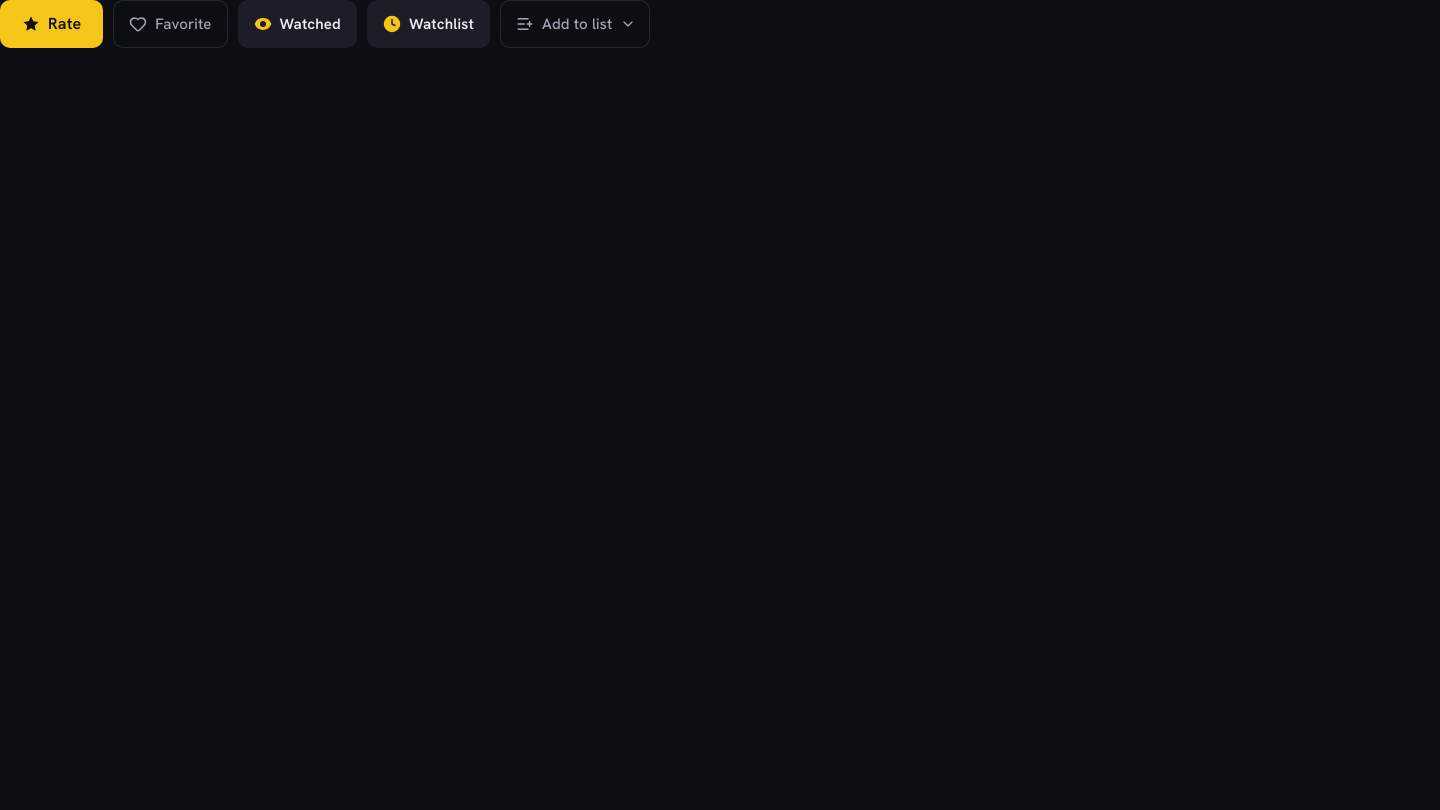
Test: menú «Add to list» › crear una lista valida el nombre y avisa si ya existe
This screenshot has width=1440, height=810.
Click the button with aria-label "Add Interstellar to a list" at (575, 24), box [500,0,650,48]
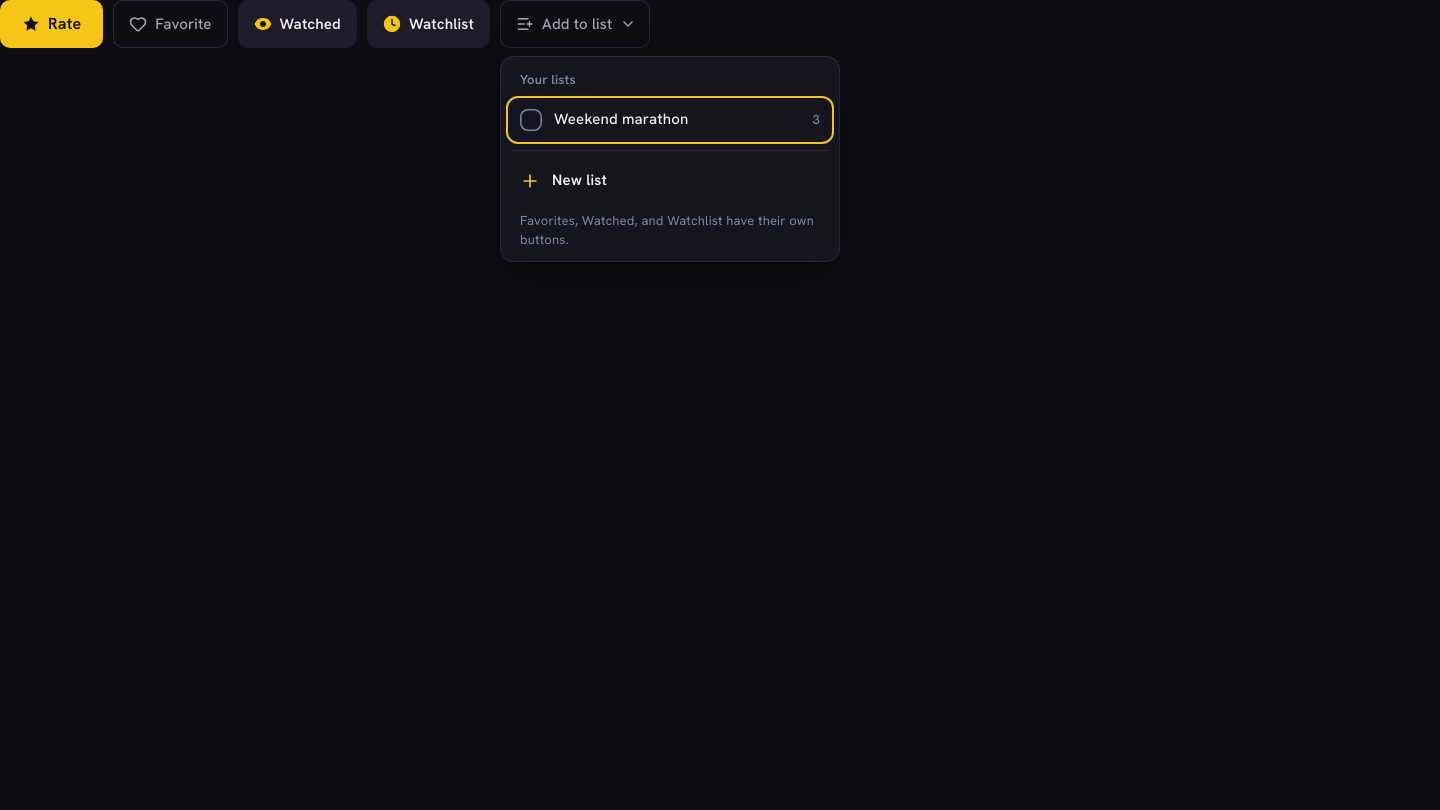
Click the button "New list" at (579, 180), box [508,158,832,202]
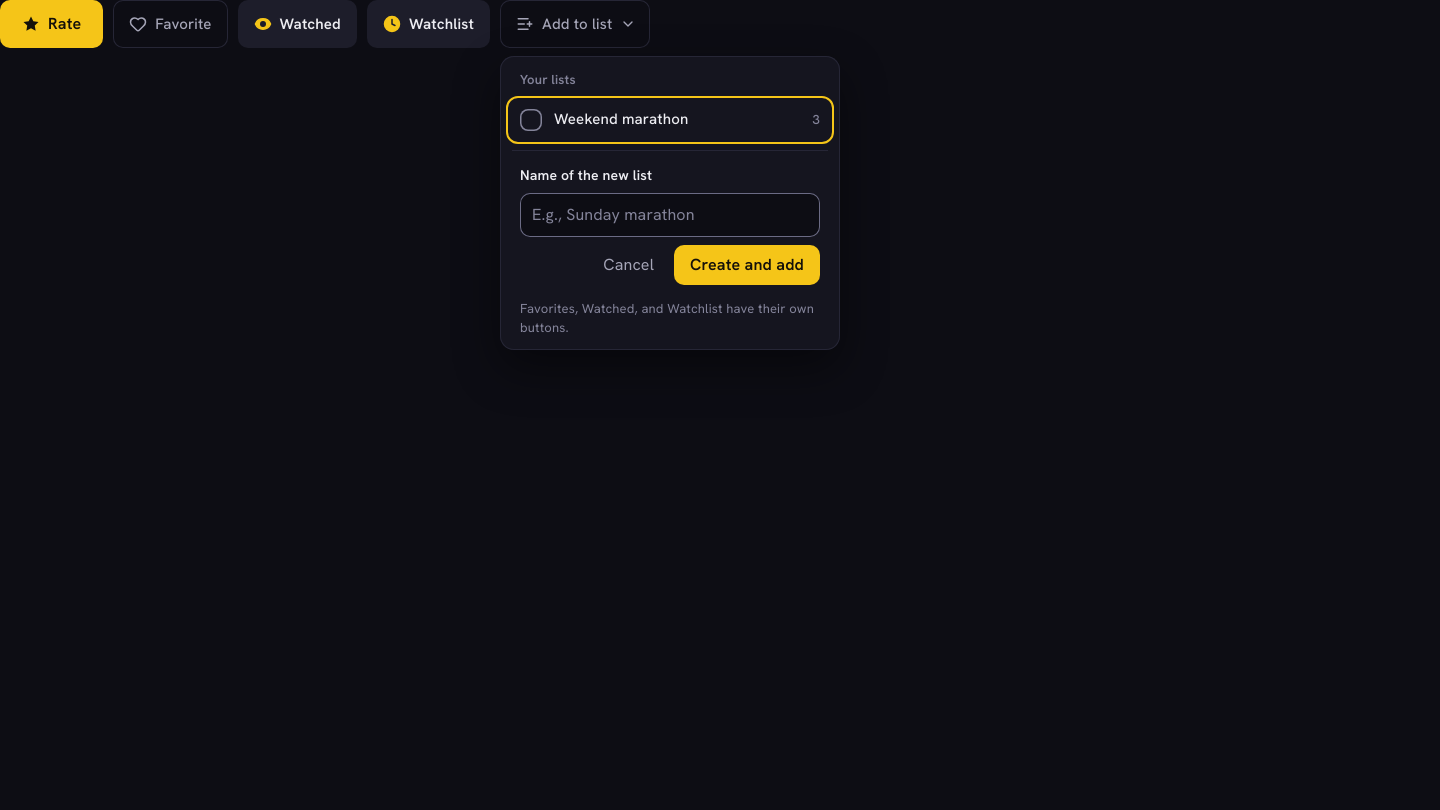
Click the button "Create and add" at (747, 264), box [674,244,820,284]
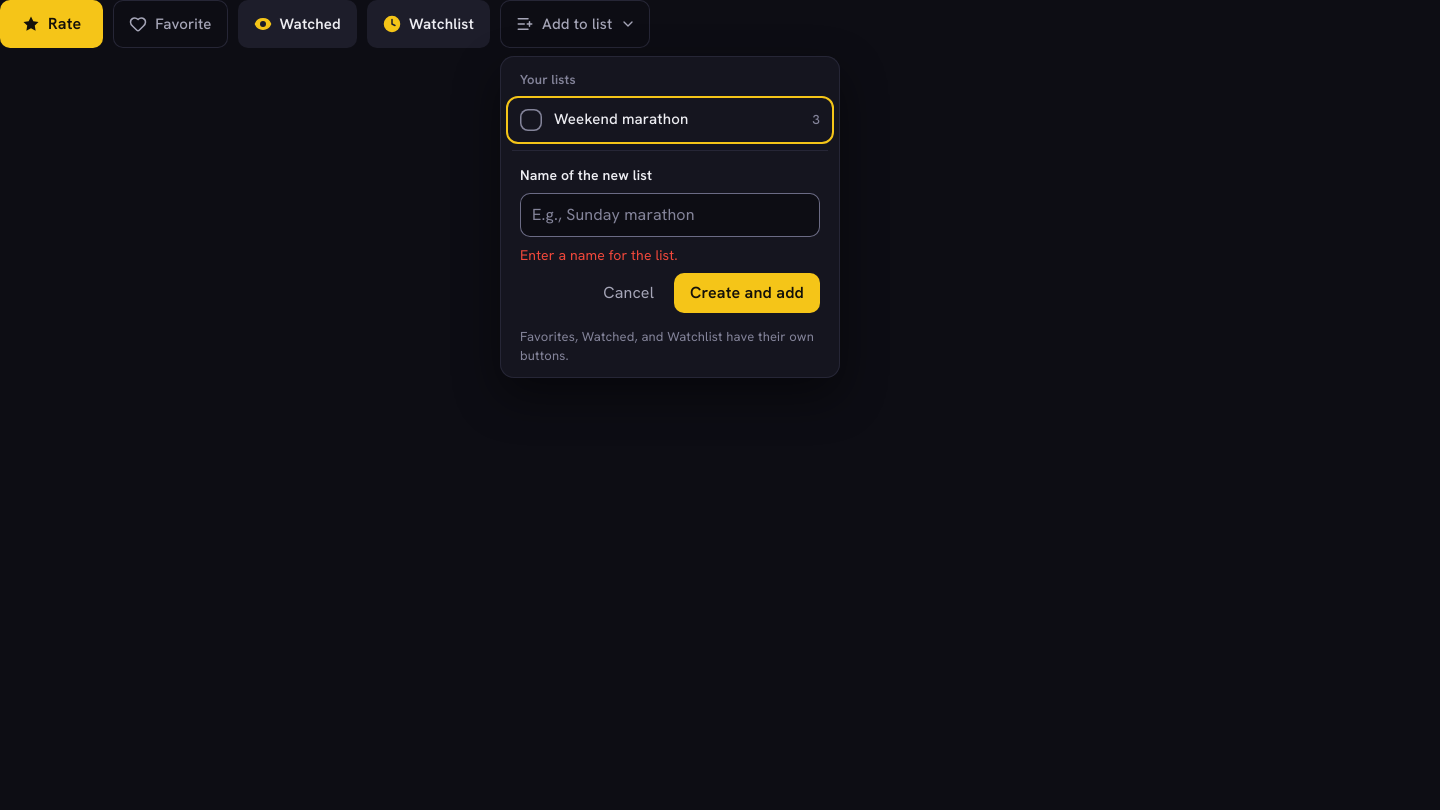
Check: the message reads "Enter a name for the list.", box [520,246,678,264]
Type "Weekend marathon" into the field labelled "Name of the new list" at (670, 214), box [520,192,820,236]
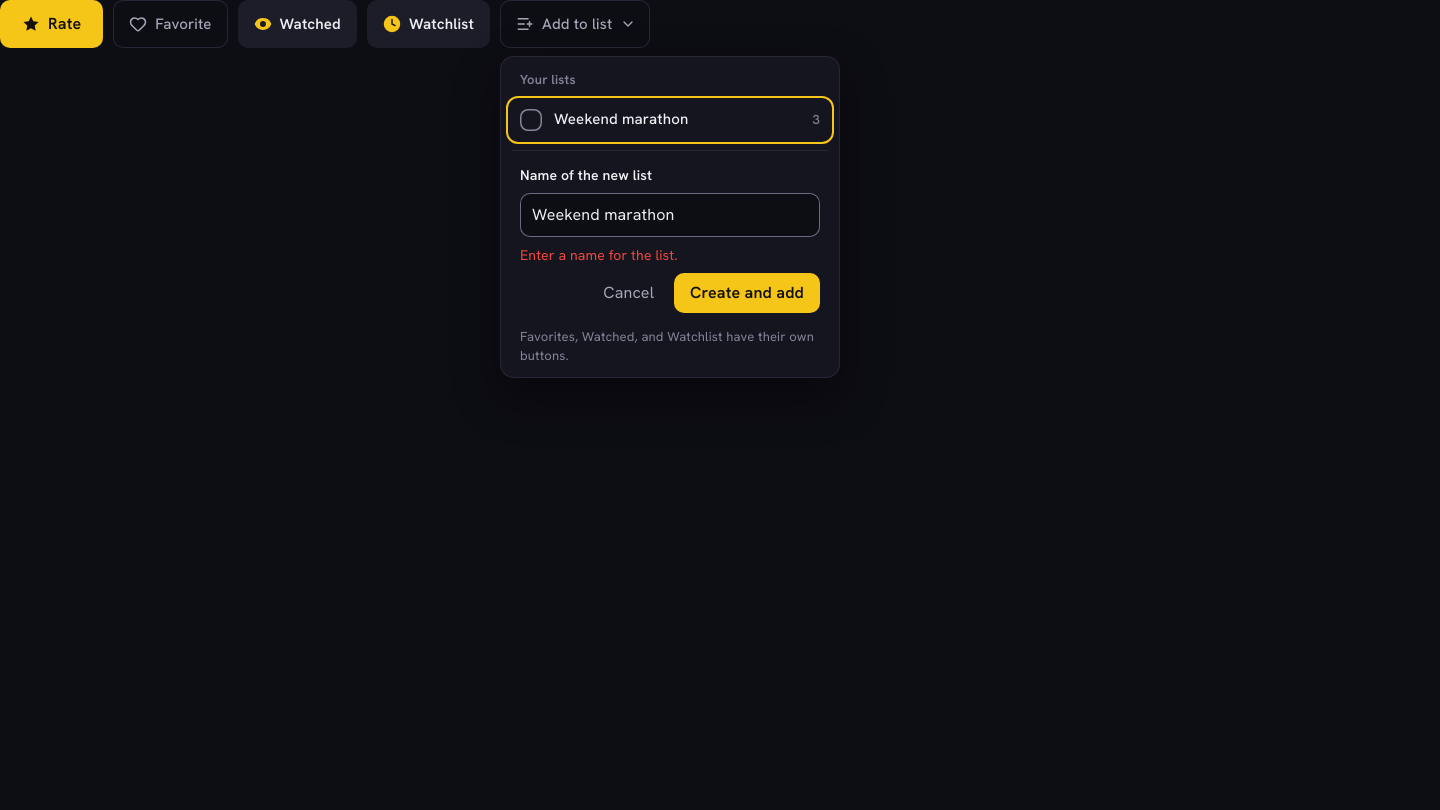
Click the button "Create and add" at (747, 292), box [674,272,820,312]
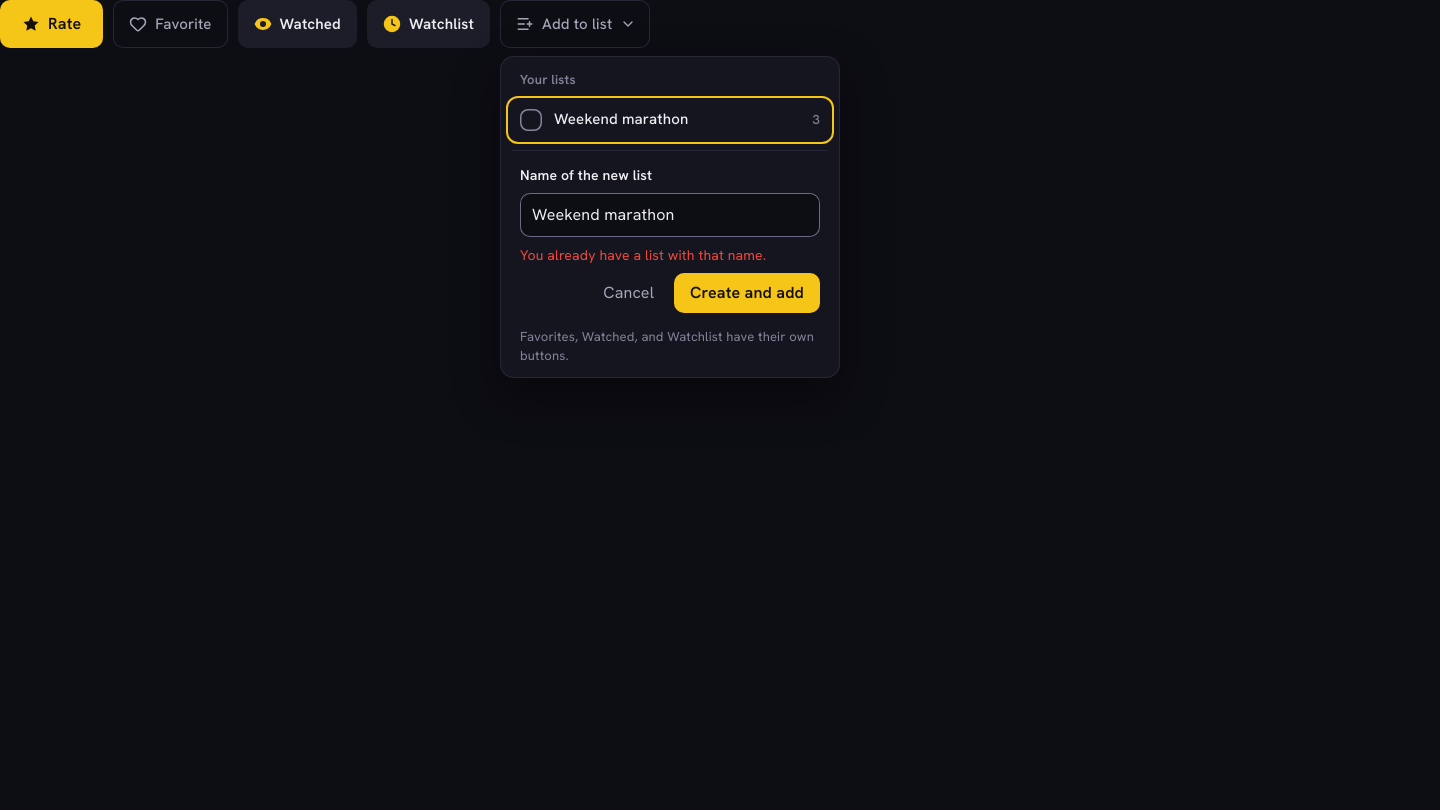
Check: the message reads "You already have a list with that name.", box [520,246,766,264]
